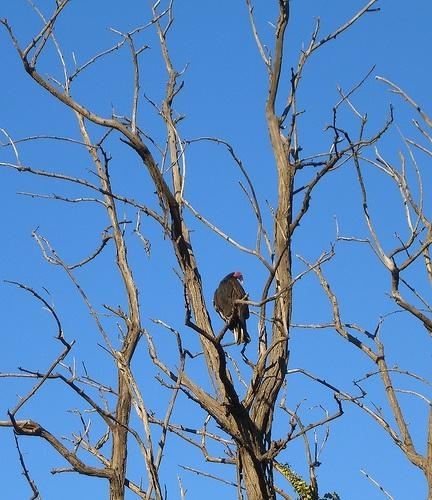bird: (212, 270, 254, 347)
